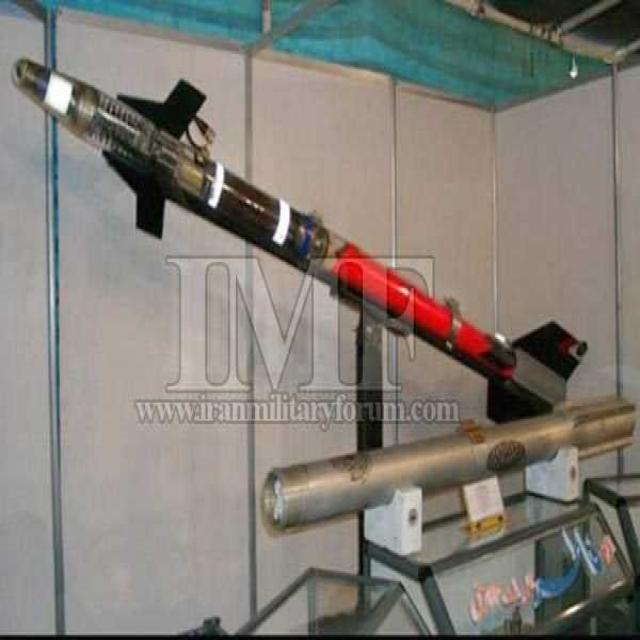missile: (11, 52, 581, 419), (255, 401, 640, 532)
